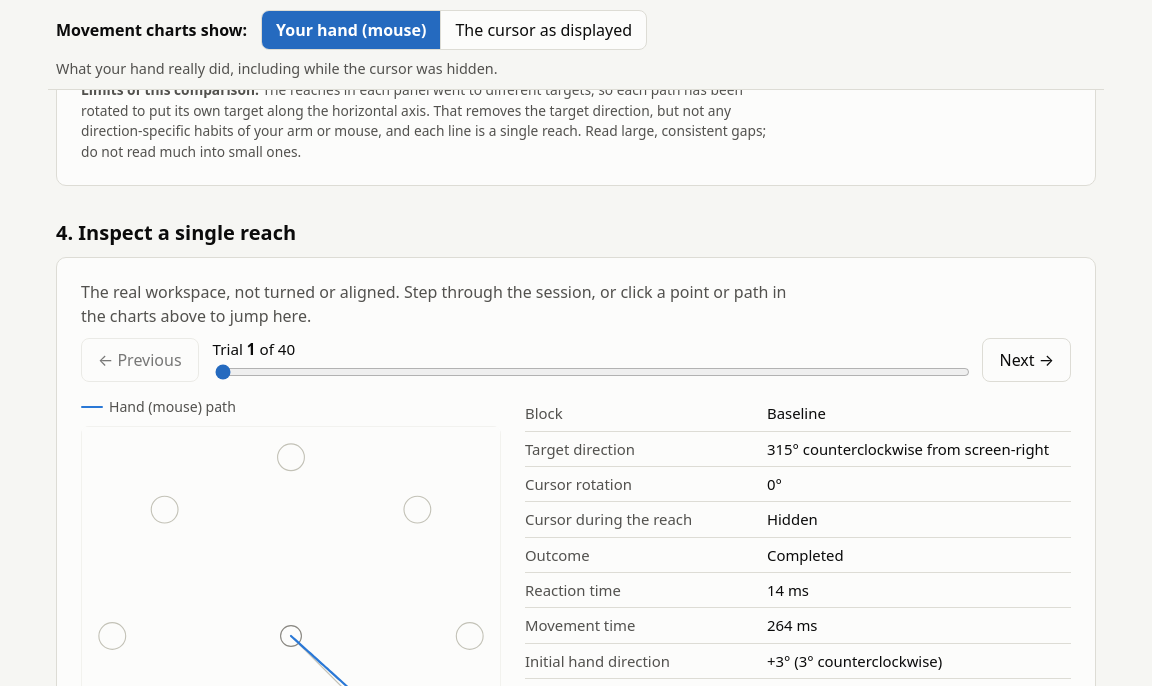
Test case: trial inspector › steps through individual reaches
This screenshot has width=1152, height=686.
(page scrolled)
Click the button "Next →": x=1027, y=360 [982,338,1071,382]
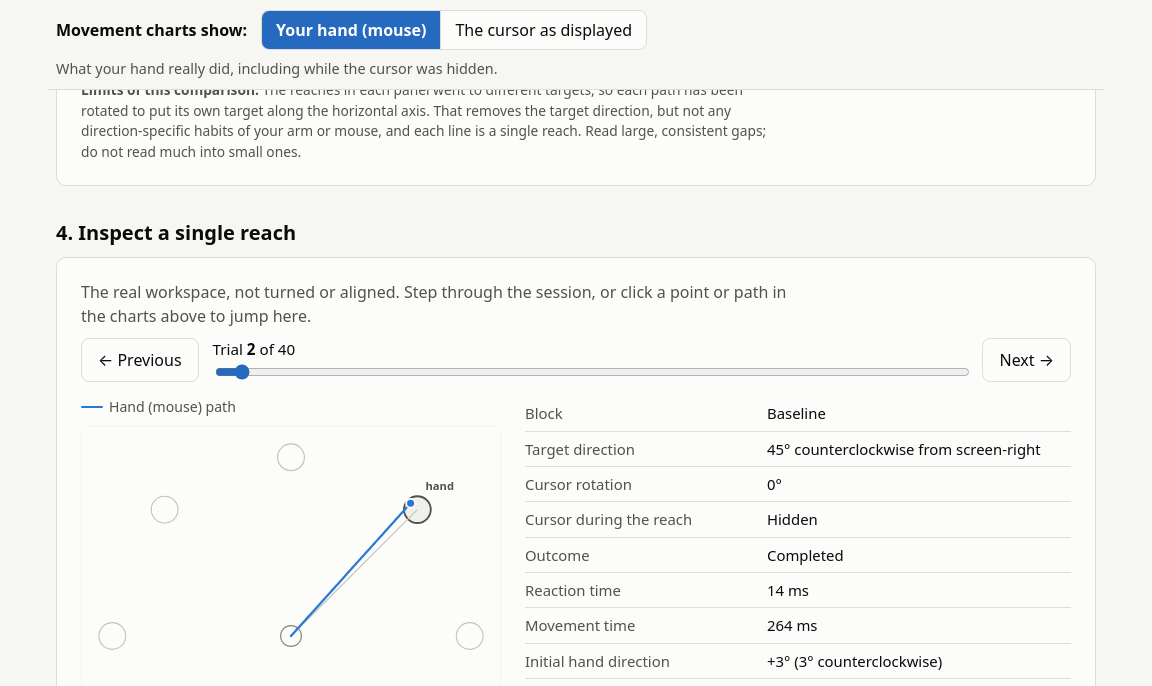
Now the element showing "Trial 2 of 40" is shown, box [213,339,295,359]
Set the slider named "Trial number" to "20": x=583, y=372 [215,364,970,380]
(page scrolled)
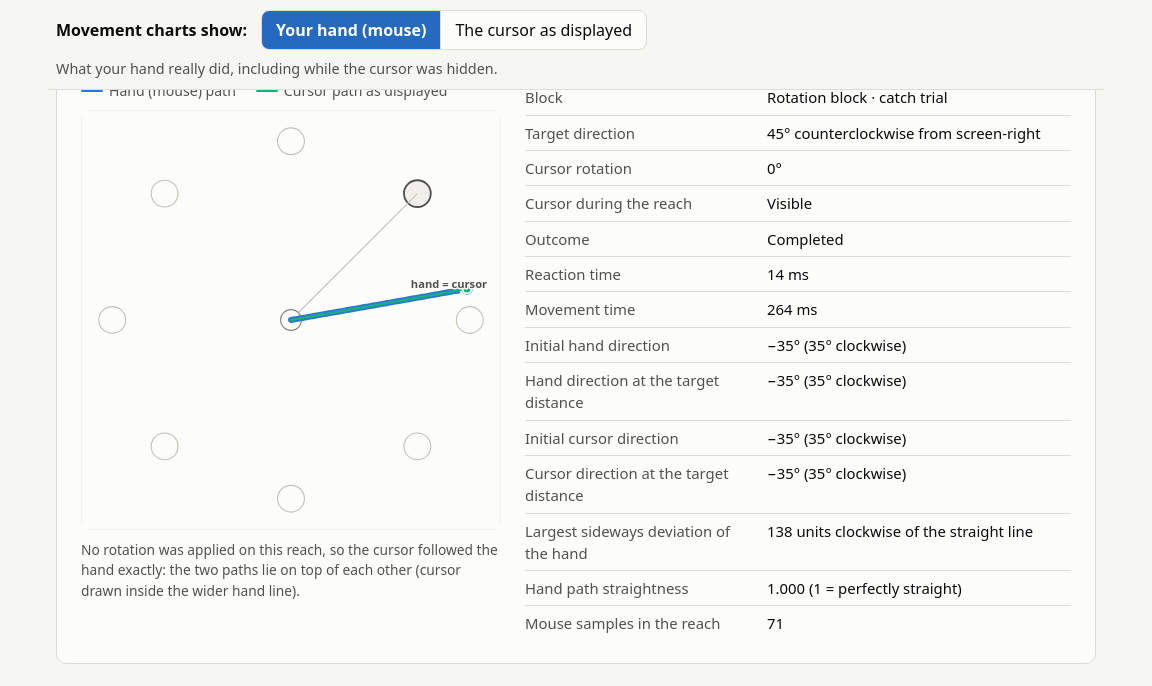
Expected: the element showing "Trial 20 of 40" is shown, [213,23,304,43]
Now the element with class "inspector-details" shows "Rotation block · catch trial", box [767,88,948,108]
